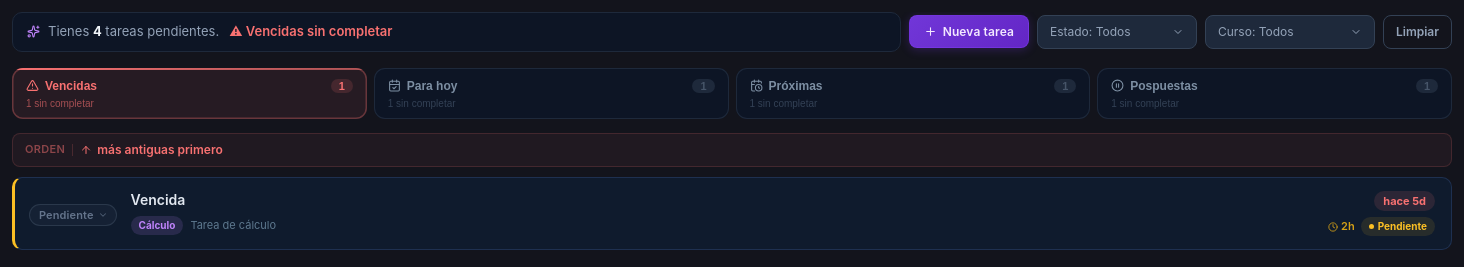
Test: TodayKanban — múltiples grupos › renderiza tareas en varios grupos y cambia de pestaña
Expected: the button with test id "today-subtask-card-1" is shown, [12, 176, 1452, 250]
Click the button with test id "today-tab-postponed".
click(1164, 86)  # box [1097, 68, 1452, 118]
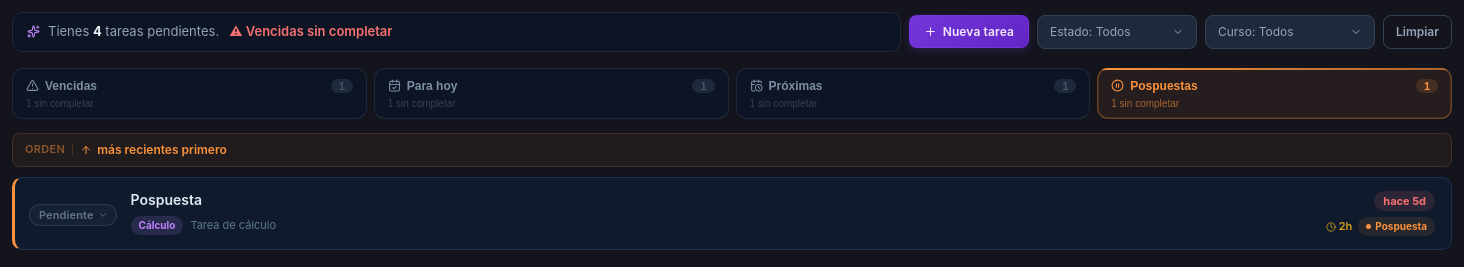
Result: the button with test id "today-subtask-card-4" is shown at [12, 176, 1452, 250]
